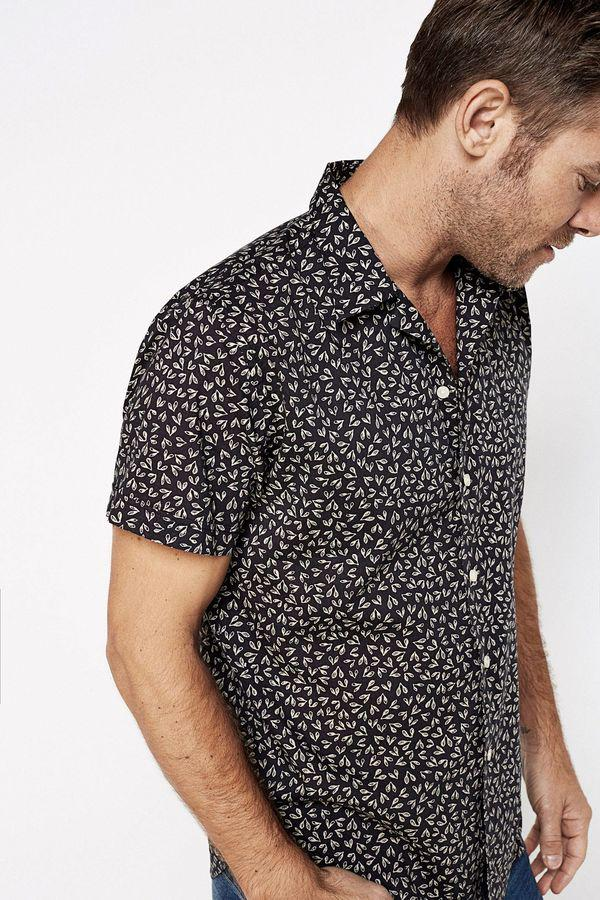teeshirt: (101, 148, 566, 877)
